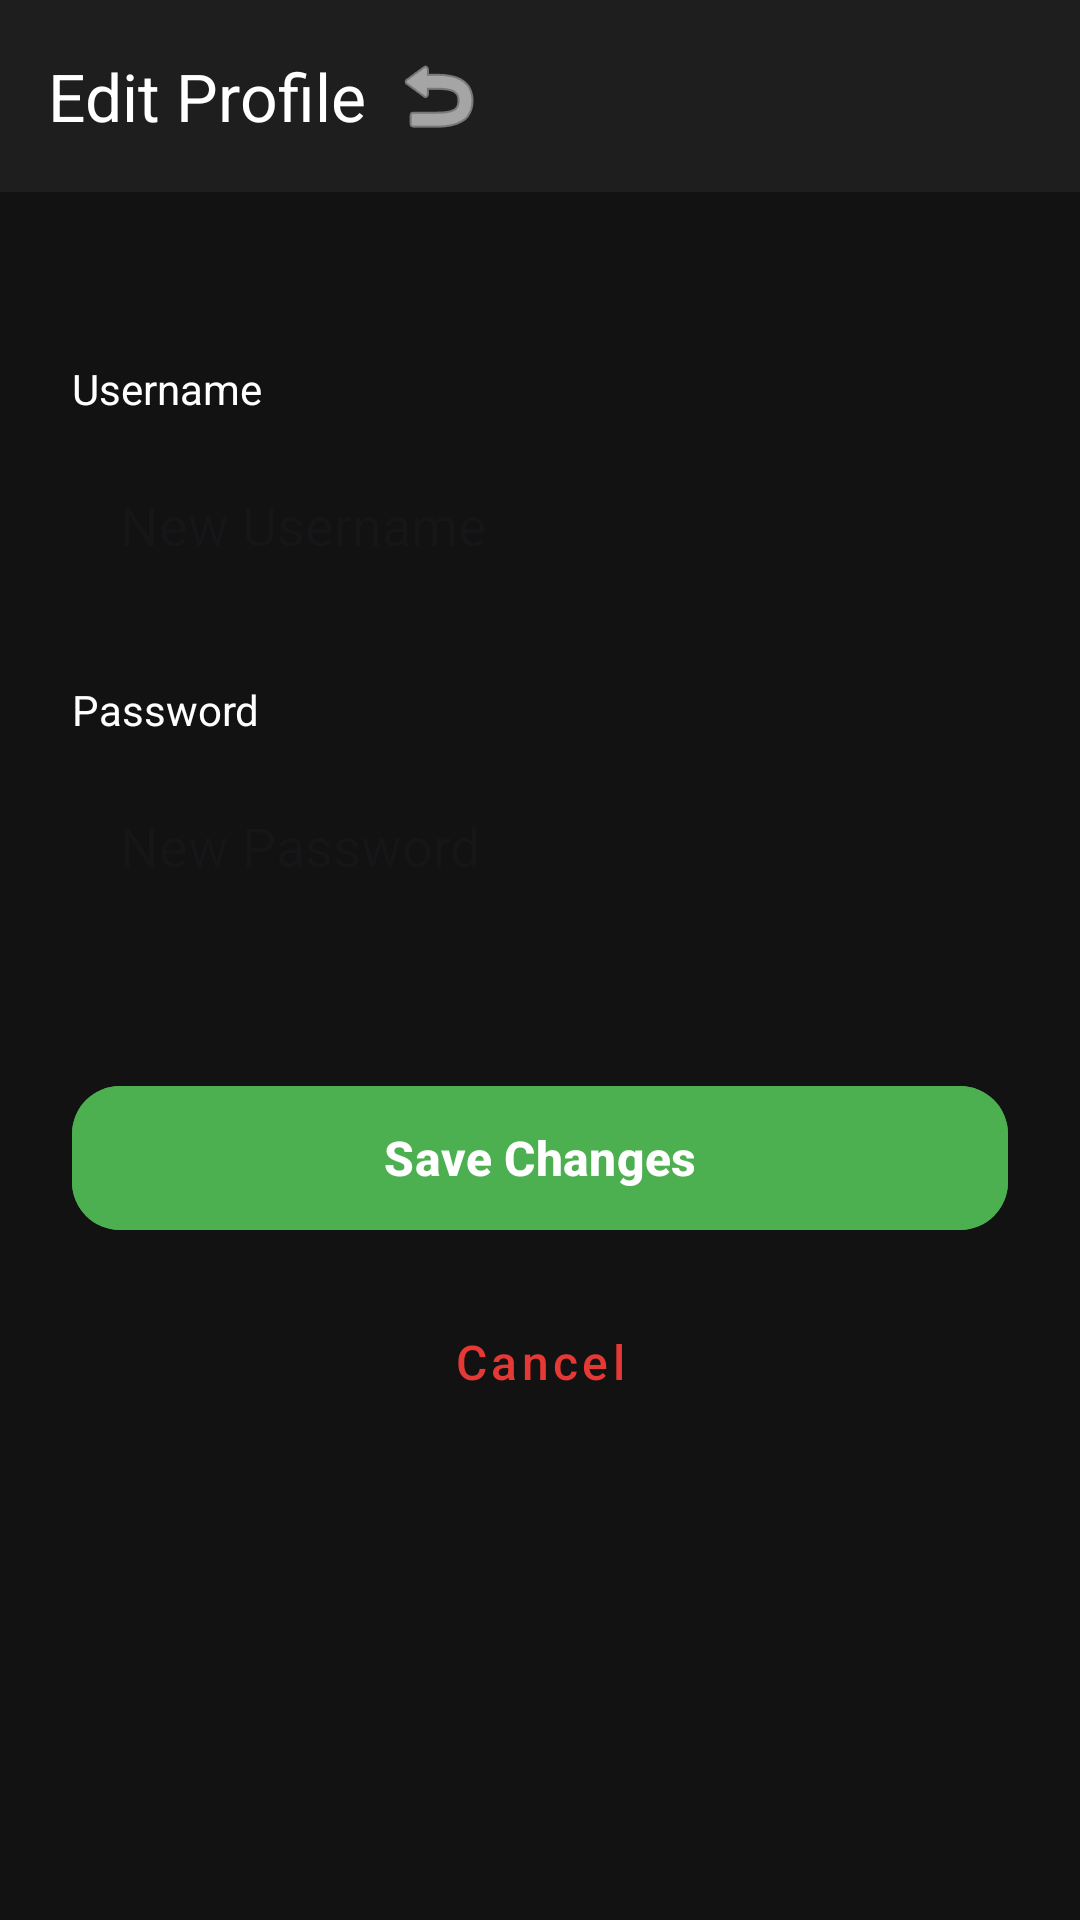

Icons on this 1080×1920 Android screen, each with its box as (x1, y1, x2, y2):
revert: (405, 65, 474, 128)
